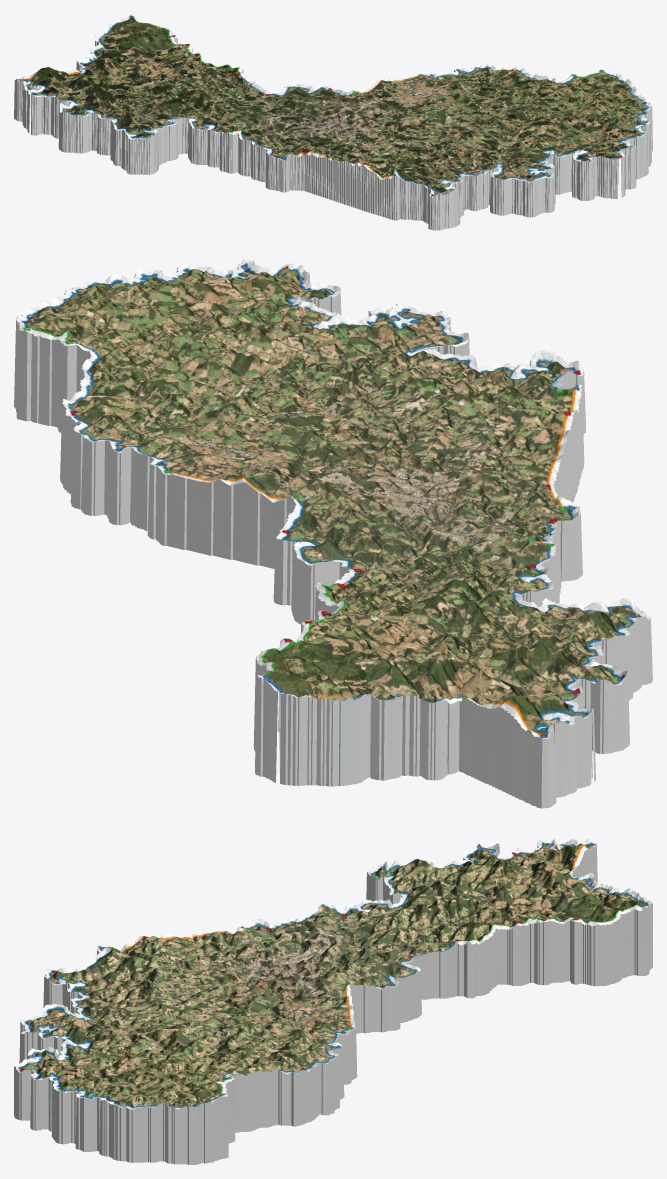
3 views of the same model, one above another, from view 1: azimuth 30°, elevation 25°; view 2: azimuth 150°, elevation 25°; view 3: azimuth 270°, elevation 25° (orthographic). The views are drawn at different scales.
Bounding box in the file's own units: 1 × 0.1152 × 0.9725.
1 material, 1 textured.
